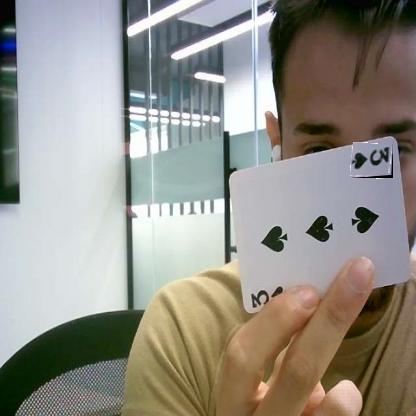3S: (351, 144, 393, 178)
